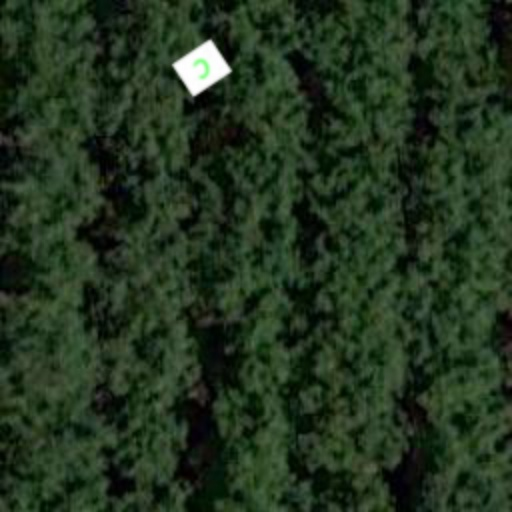rectangle: (168, 34, 236, 102)
